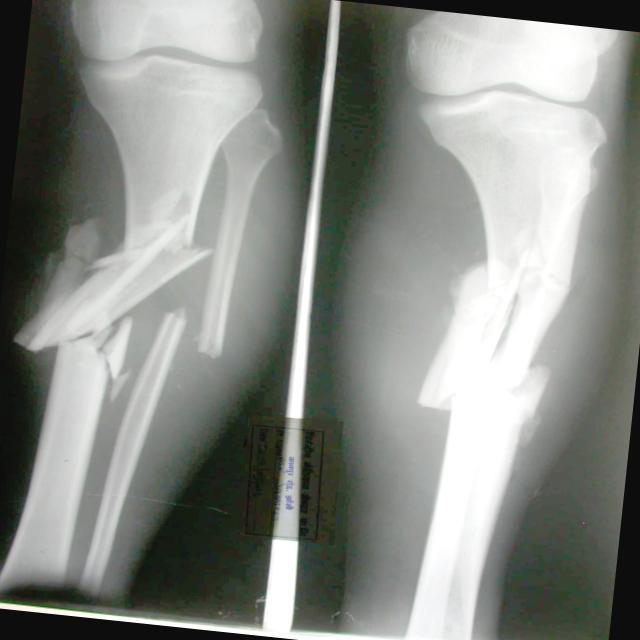Comminuted Fracture: (161, 294, 271, 382), (116, 210, 228, 274), (35, 306, 128, 373)
